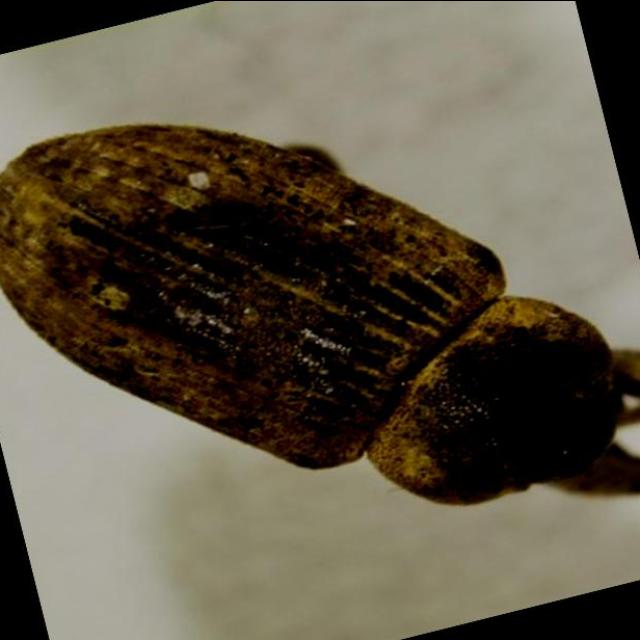ricebug: (0, 125, 640, 503)
